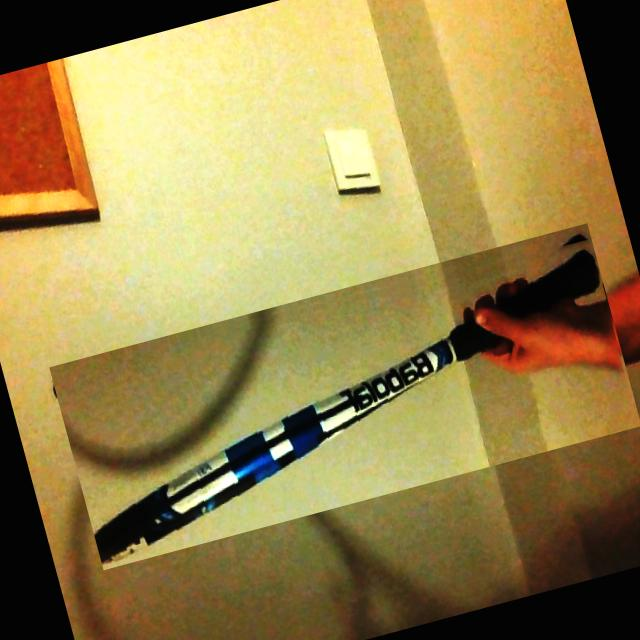TennisRacket: (49, 222, 640, 569)
